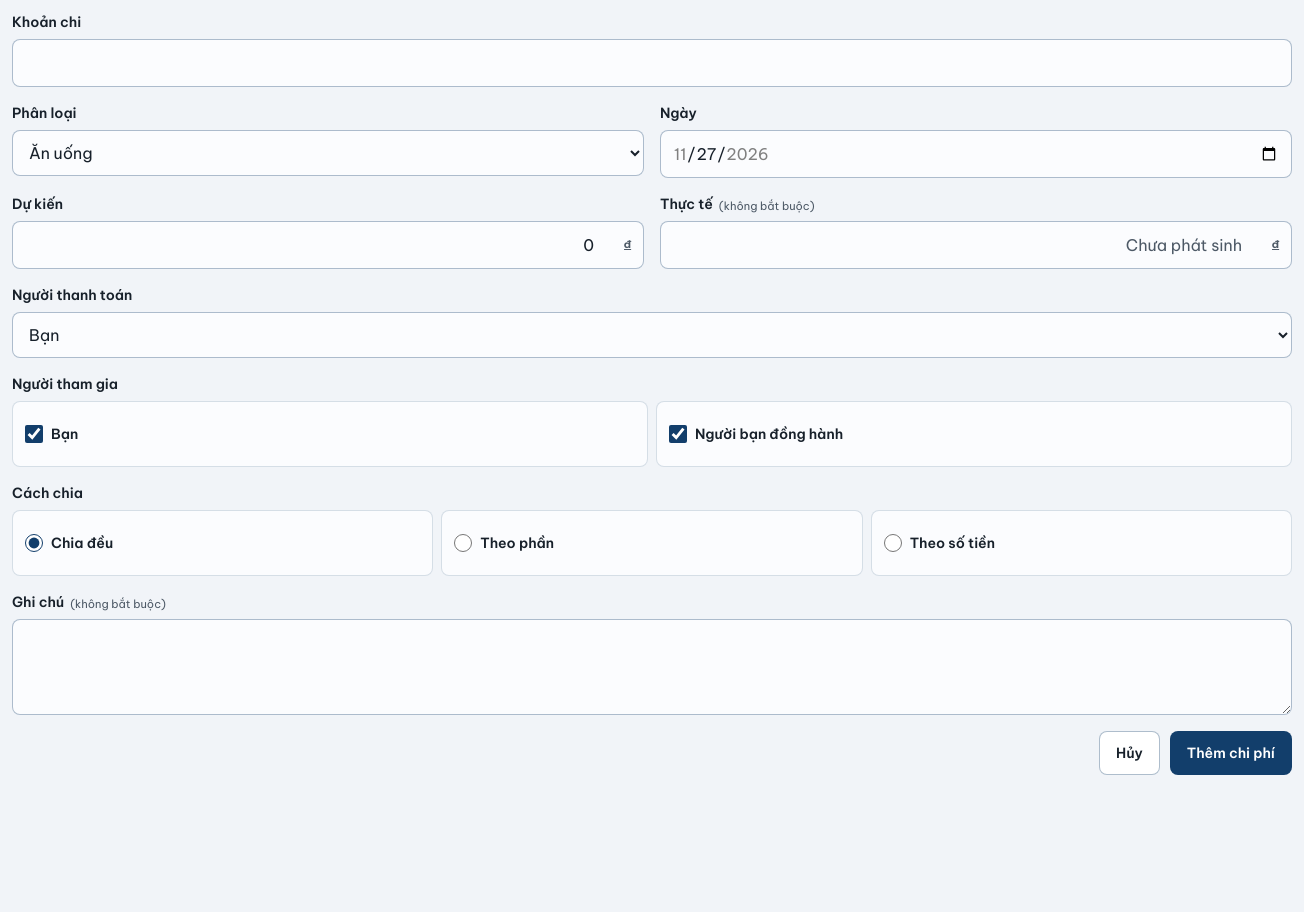
Test: ExpenseForm › requires the creator to choose at least one participant
Type "Ăn tối" into the field labelled "Khoản chi".
click(652, 63); type("Ăn tối")  # box top-left (12, 39), bottom-right (1292, 87)
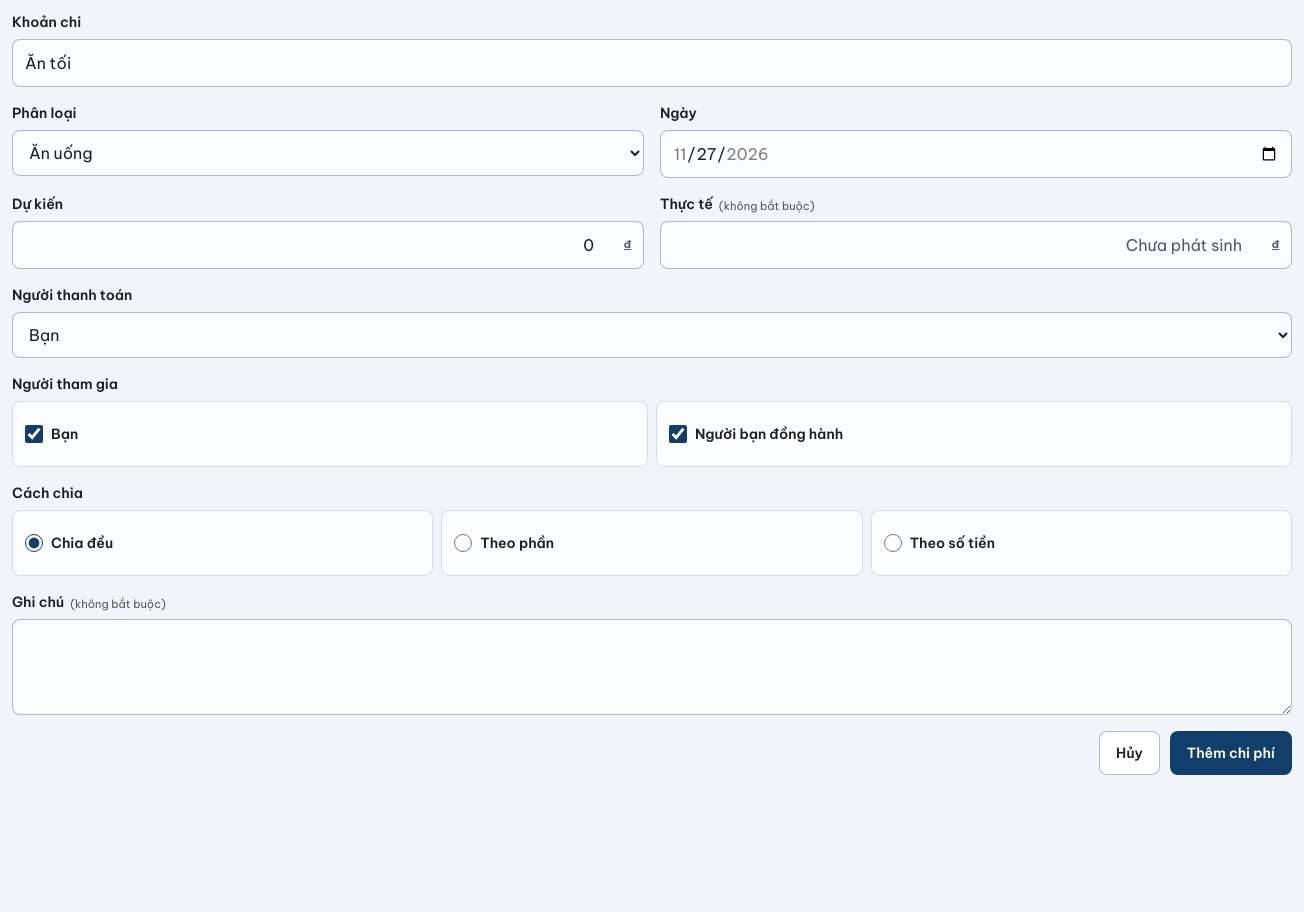
Click the checkbox labelled "Bạn".
click(34, 434)  # box top-left (25, 411), bottom-right (43, 457)
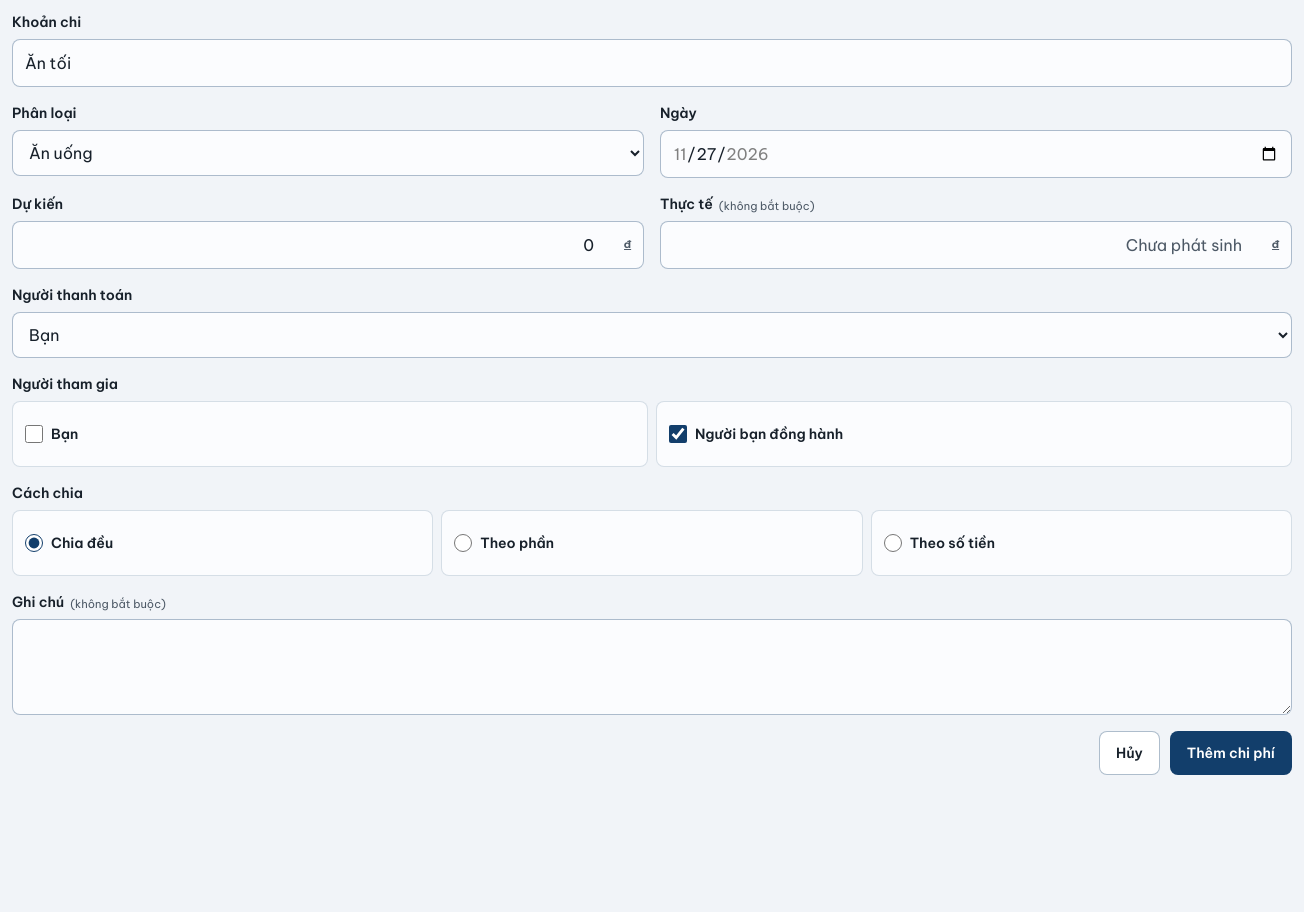
Click the checkbox labelled "Người bạn đồng hành".
click(678, 434)  # box top-left (669, 411), bottom-right (687, 457)
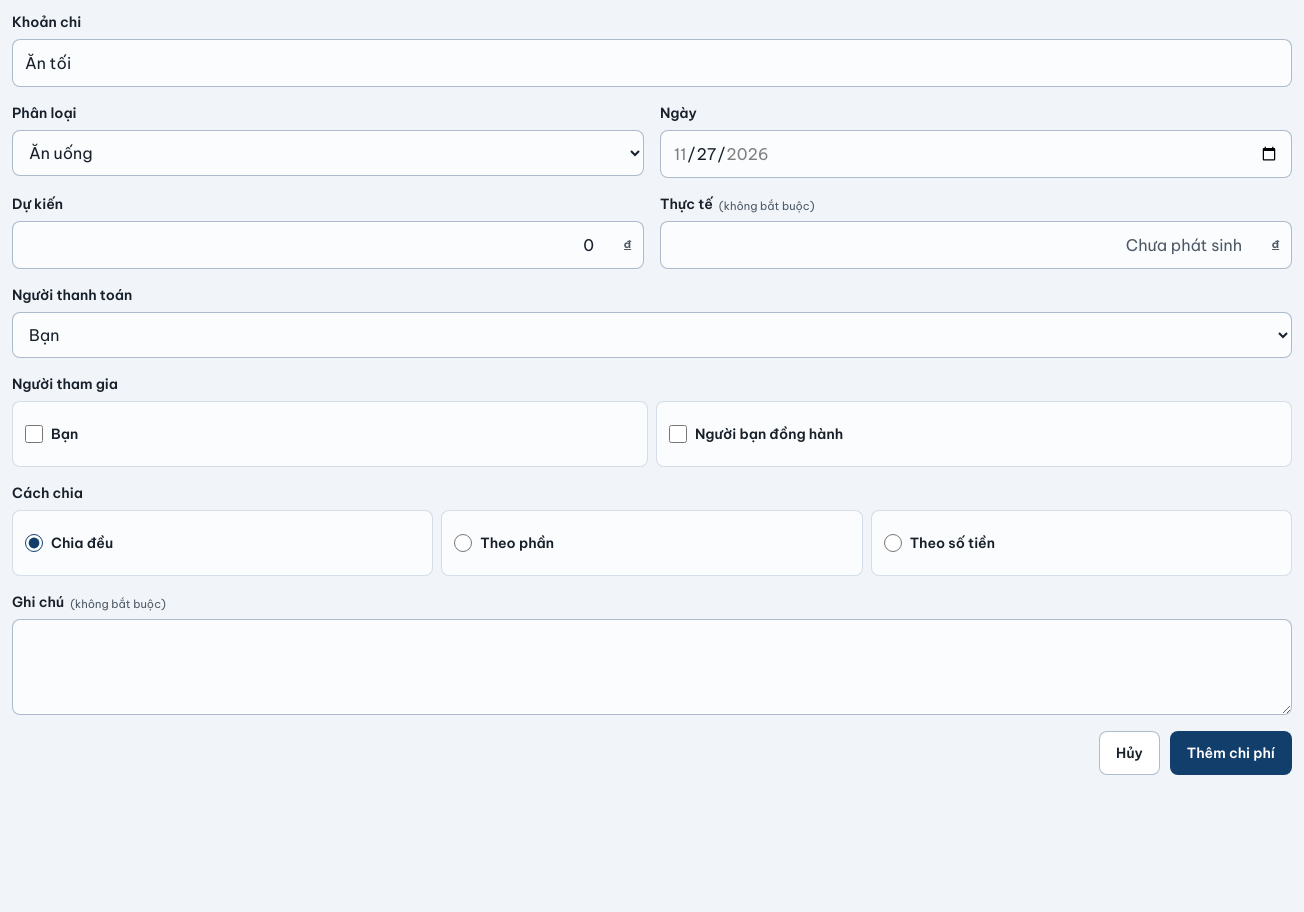
Click the button "Thêm chi phí".
click(1231, 753)  # box top-left (1170, 731), bottom-right (1292, 775)
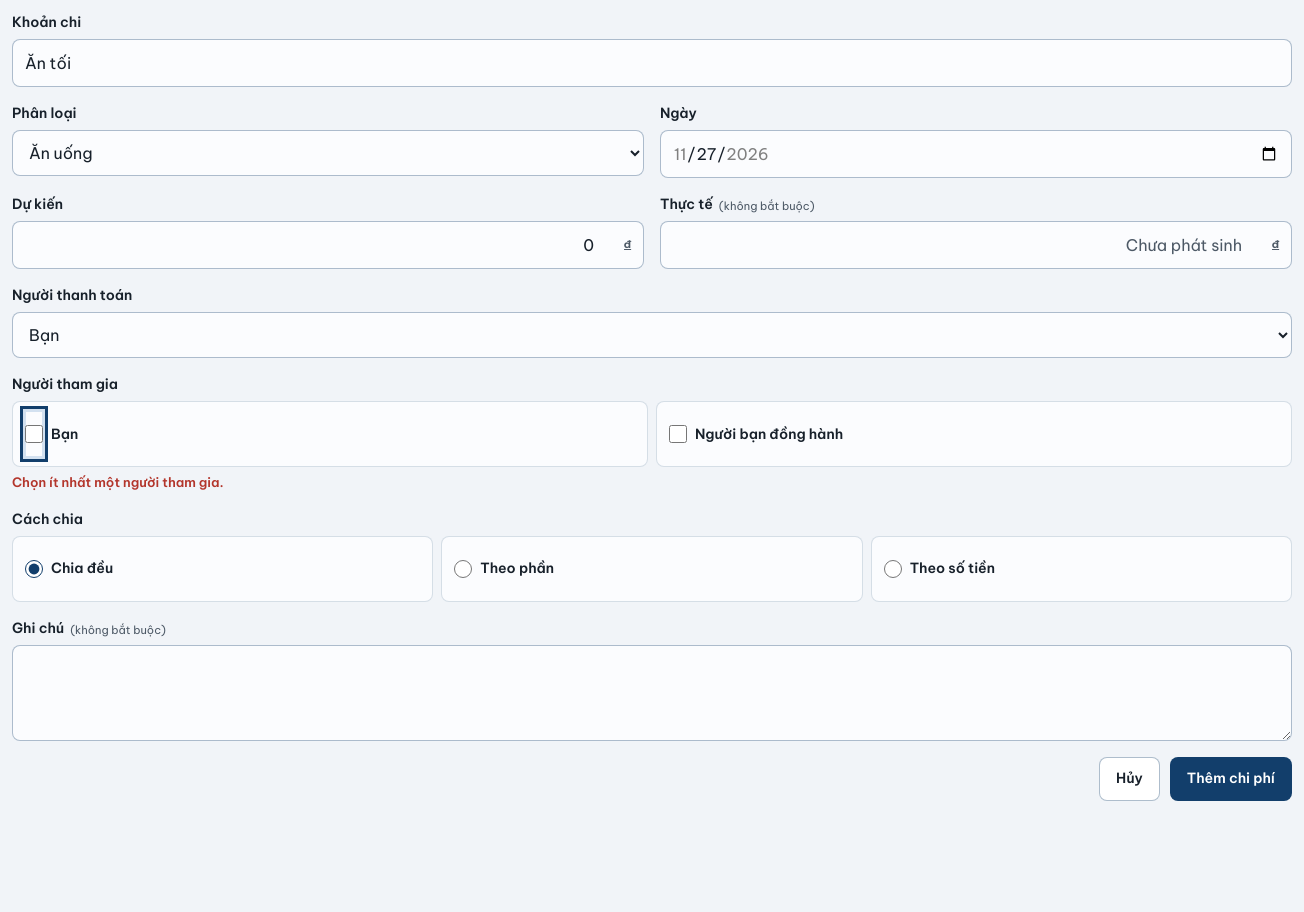
Expected: the text "Chọn ít nhất một người tham gia." is shown, top-left (12, 474), bottom-right (224, 490)
